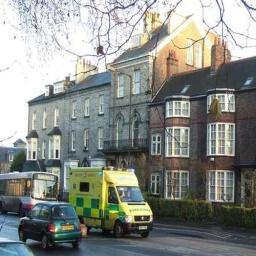ambulance: (69, 167, 152, 237)
